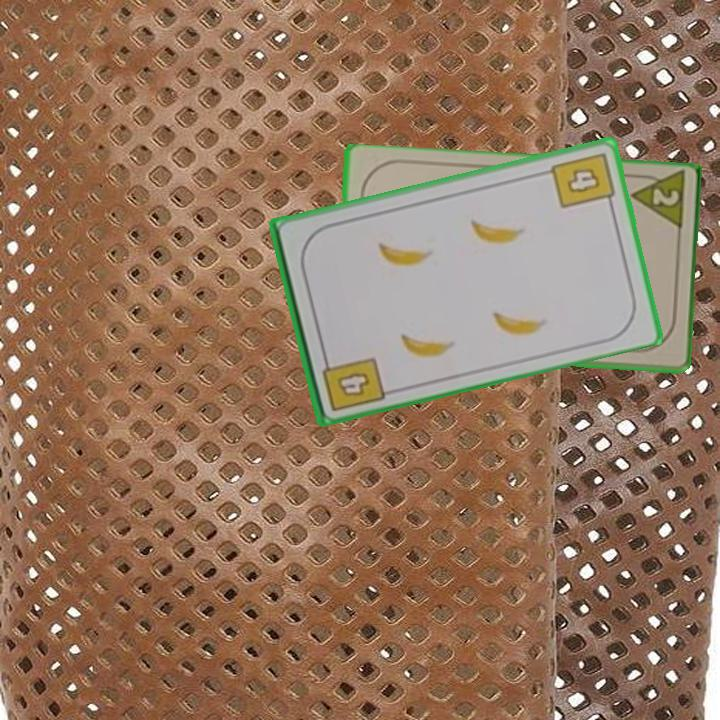2p: (626, 170, 688, 236)
4b: (318, 349, 387, 414), (547, 148, 617, 211)
